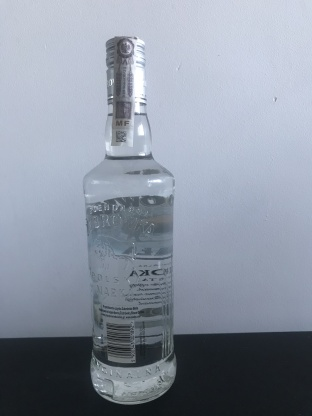nakretka: (103, 32, 150, 109)
